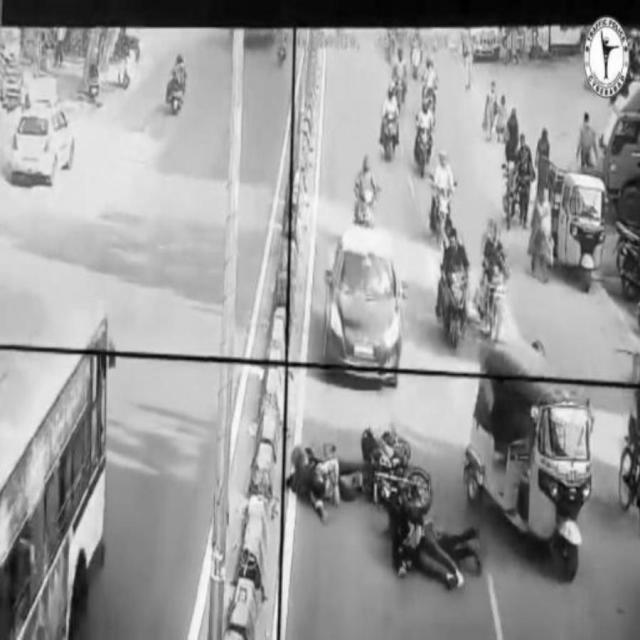accident: (284, 427, 481, 591)
vehicle: (469, 342, 590, 584), (327, 234, 404, 392), (540, 160, 606, 290), (11, 109, 75, 179), (440, 226, 468, 347), (481, 221, 507, 337), (350, 153, 378, 241), (433, 155, 457, 247), (379, 84, 403, 162), (415, 100, 435, 178), (168, 51, 188, 118)
